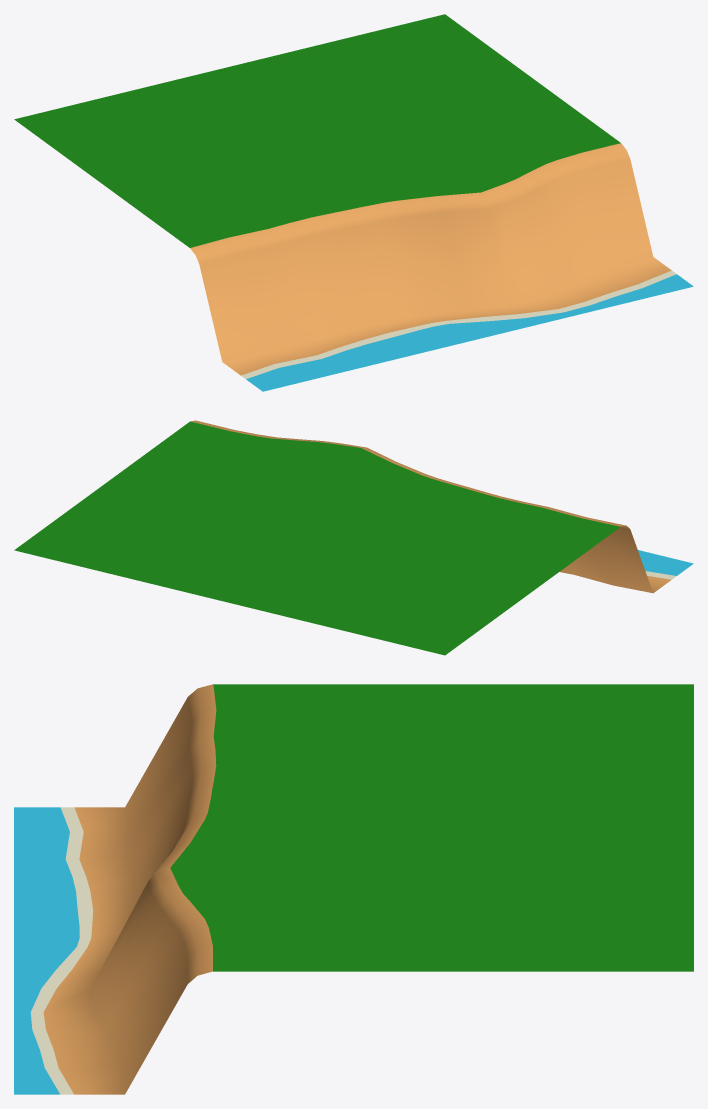
The model's file is Beach-1.fbx.
3 views of the same model, one above another, from view 1: azimuth 30°, elevation 25°; view 2: azimuth 150°, elevation 25°; view 3: azimuth 270°, elevation 25° (orthographic). The views are drawn at different scales.
Parts seen in each view (by area): view 1: Beach-1_Terrain, Beach-1_Sand, Beach-1_Water, Beach-1_Seashore; view 2: Beach-1_Terrain, Beach-1_Sand, Beach-1_Water; view 3: Beach-1_Terrain, Beach-1_Sand, Beach-1_Water, Beach-1_Seashore.
Part boxes in pixels (x1,y1,x2,y2): Beach-1_Terrain: (14,14,620,247); Beach-1_Sand: (190,143,671,375); Beach-1_Water: (246,274,693,391); Beach-1_Seashore: (241,270,676,378); Beach-1_Terrain: (14,421,620,655); Beach-1_Sand: (190,420,671,593); Beach-1_Water: (638,550,693,575); Beach-1_Terrain: (170,684,693,971); Beach-1_Sand: (43,684,216,1094); Beach-1_Water: (14,807,79,1094); Beach-1_Seashore: (30,807,93,1094).
Size of the model in its own units: 20 by 4 by 20.
